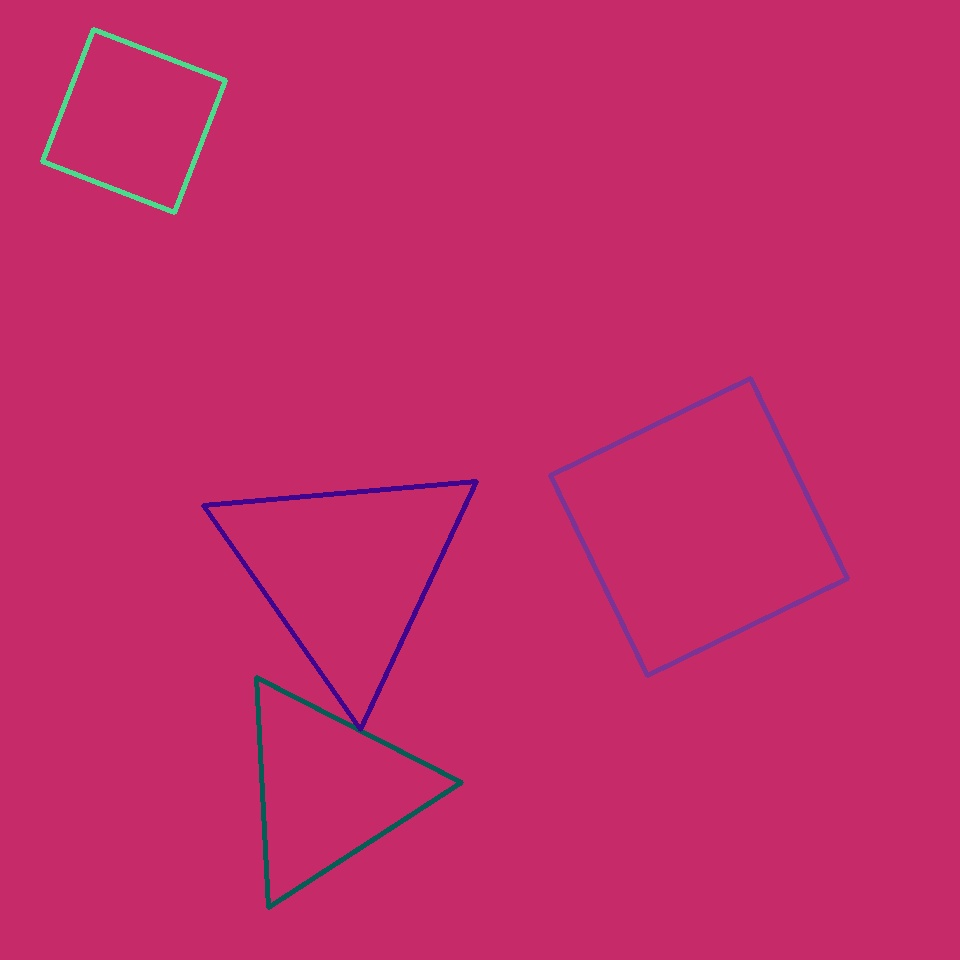circle: (210, 448, 484, 696), (227, 674, 432, 904)
square: (550, 378, 848, 676), (43, 30, 226, 212)
